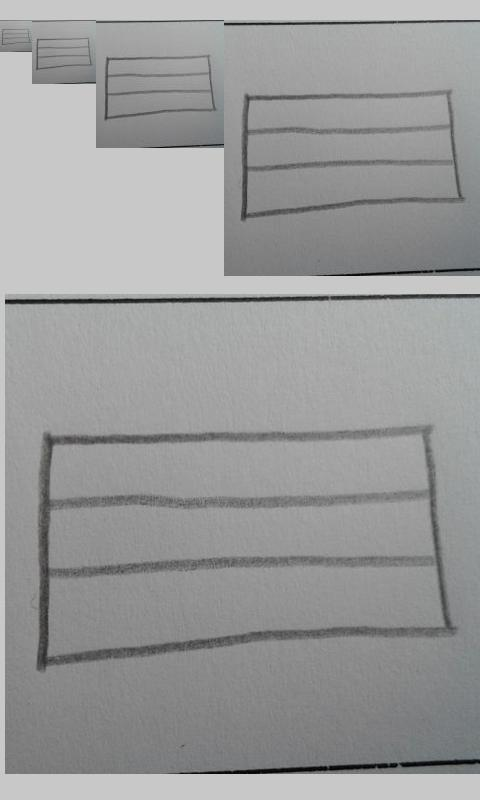list_view: (32, 426, 454, 670), (241, 91, 464, 219), (105, 55, 217, 120), (36, 37, 92, 70), (1, 28, 31, 46)
